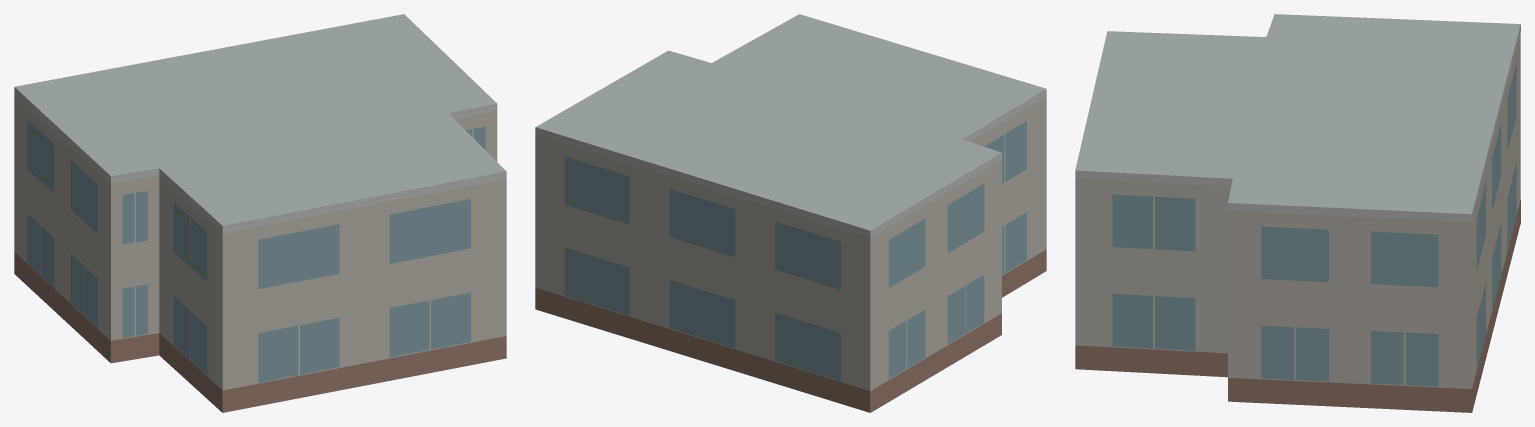
File: survey-upis-32561240.glb
The picture shows the model from 3 angles, left to right: view 1: azimuth 30°, elevation 25°; view 2: azimuth 150°, elevation 25°; view 3: azimuth 270°, elevation 25°; orthographic projection. The views are drawn at different scales.
Visible parts, largest first — view 1: survey-upis-32561240.tmp; view 2: survey-upis-32561240.tmp; view 3: survey-upis-32561240.tmp.
Boxes of the visible parts, bbox=[...] form: survey-upis-32561240.tmp: bbox=[14, 14, 506, 412]; survey-upis-32561240.tmp: bbox=[535, 14, 1046, 412]; survey-upis-32561240.tmp: bbox=[1075, 14, 1520, 412].
Bounding box in the file's own units: 13.19 × 6.1 × 12.41.
